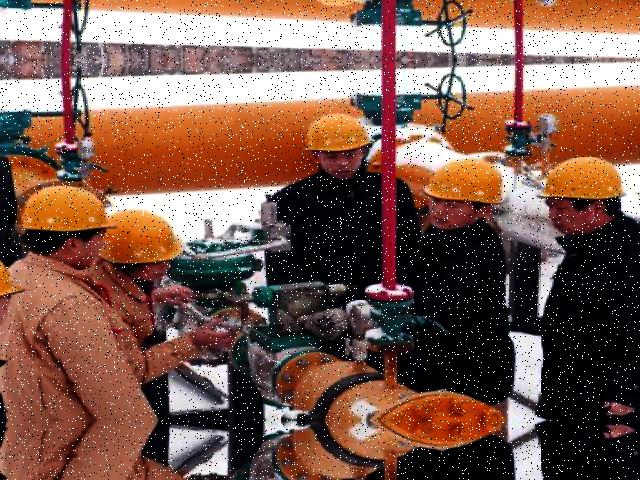Helmet: (12, 182, 114, 244), (94, 203, 188, 268), (527, 149, 627, 209), (414, 152, 511, 212), (297, 107, 373, 160)
